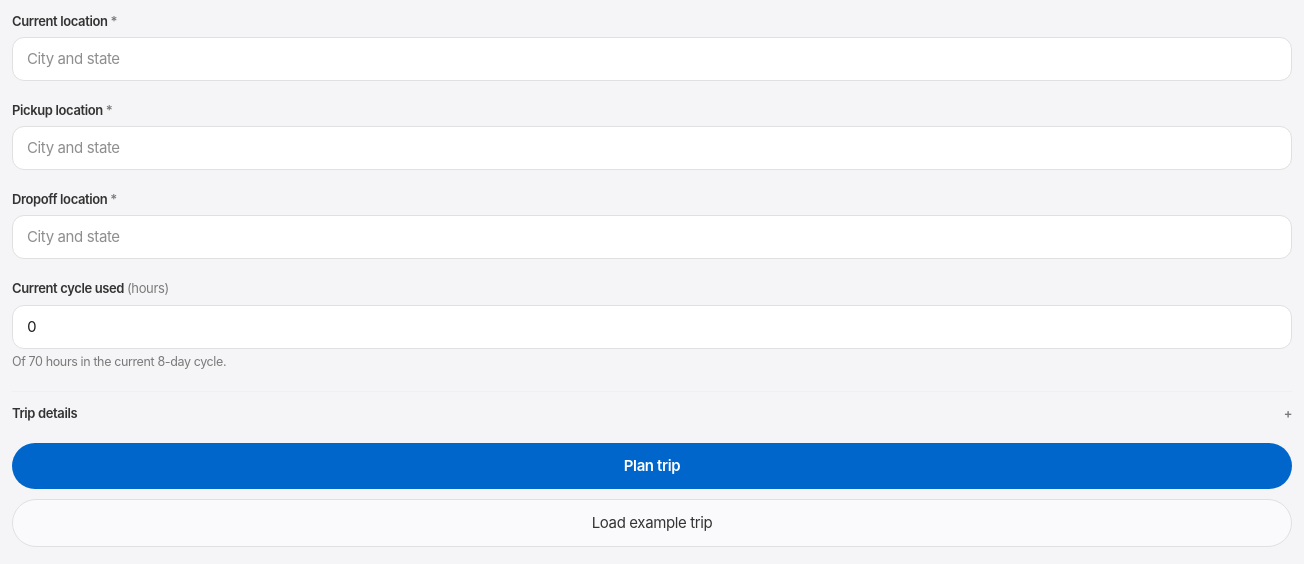
Scenario: cycle hours › says the trip will open with a restart at exactly 70
Replace the text in the number field labelled "Current cycle used (hours)" with "70". click: (652, 327)
box: [12,305,1292,349]
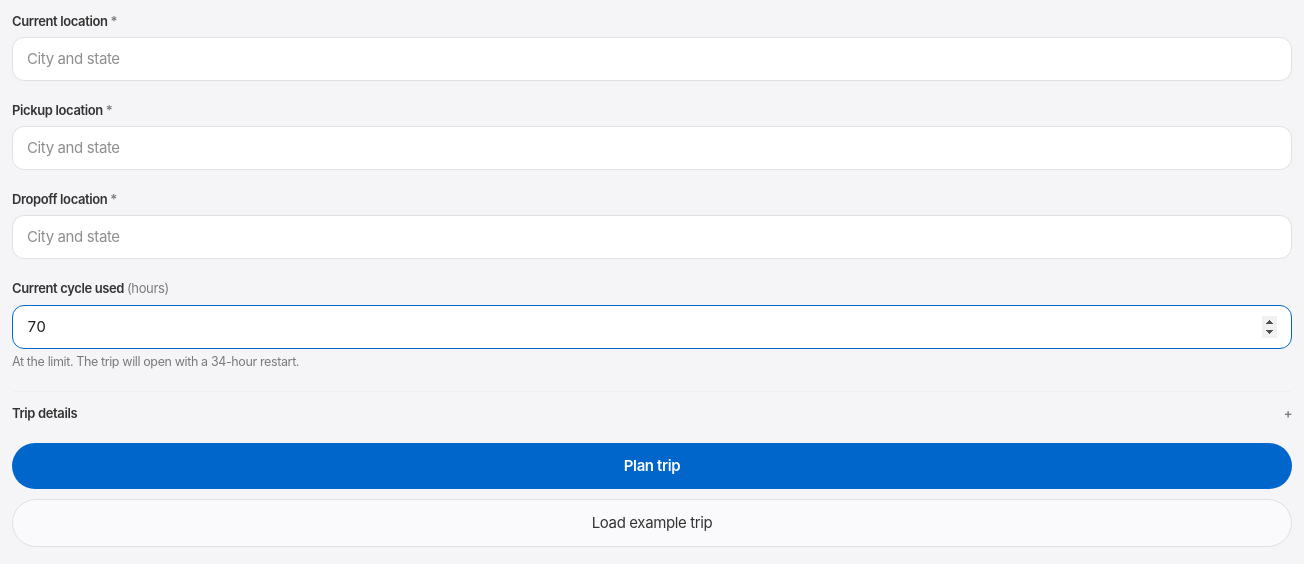
Expected: the text "At the limit. The trip will open with a 34-hour restart." is shown, [12,354,299,369]
